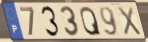3: (39, 6, 61, 39), (59, 5, 81, 37)
7: (18, 6, 36, 38)
9: (99, 6, 119, 37)
Q: (79, 5, 103, 37)
X: (116, 6, 143, 37)
